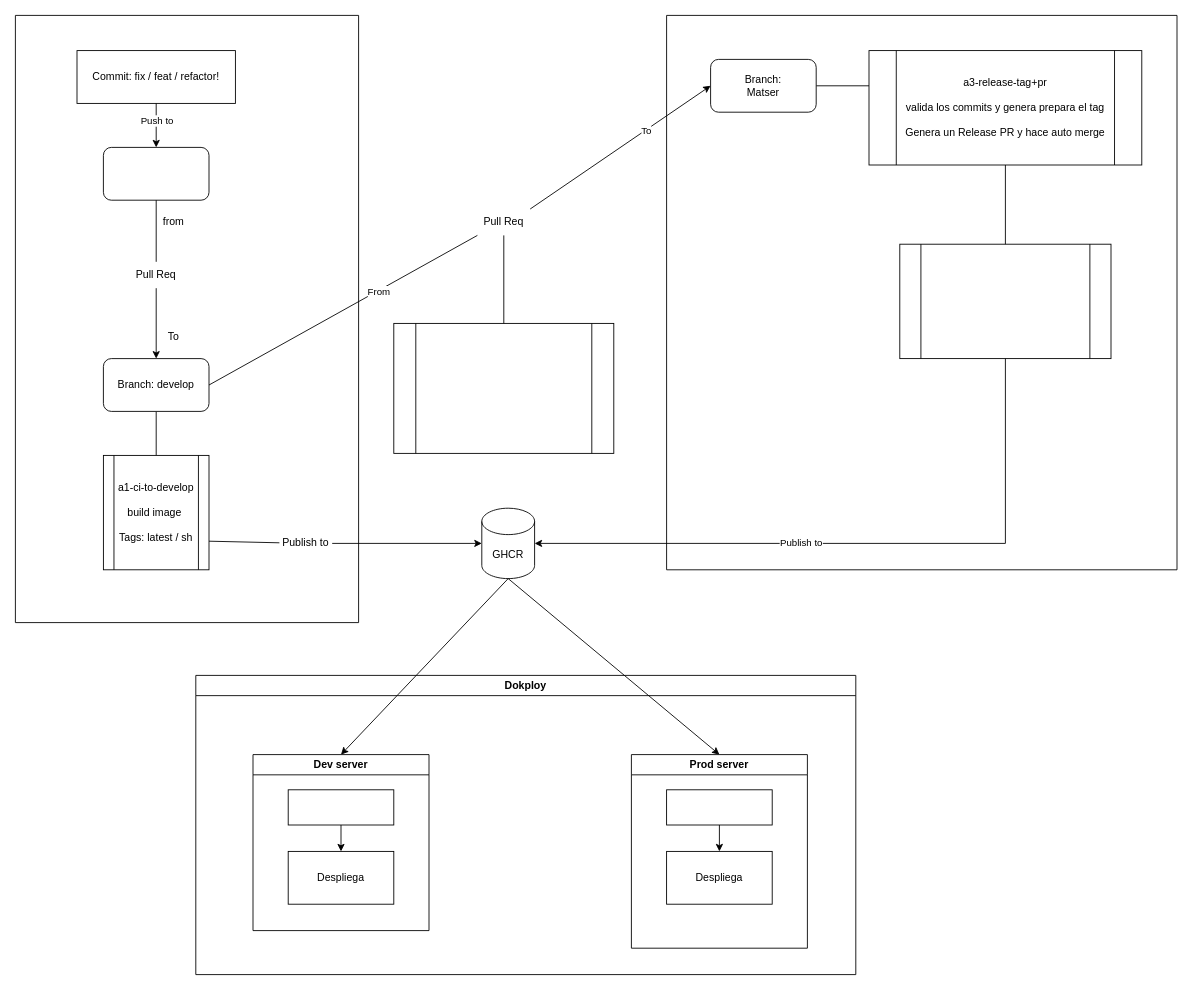
Image size: 1192x990. Some labels were removed from this diagram. Each missing label, with the centre of its shape:
a2-validate-build Build local (No push a GHCR) Levanta y Verifica el contenedor: (x=503, y=388)
a4-ci-to-develop build release image Tags: latest / sh / v1 / v*.*.*: (x=1005, y=301)
Branch: FeatureBranch: (x=156, y=173)
Escucha: latest: (x=340, y=807)
Escucha: v1 / v1.*.*: (x=719, y=807)
